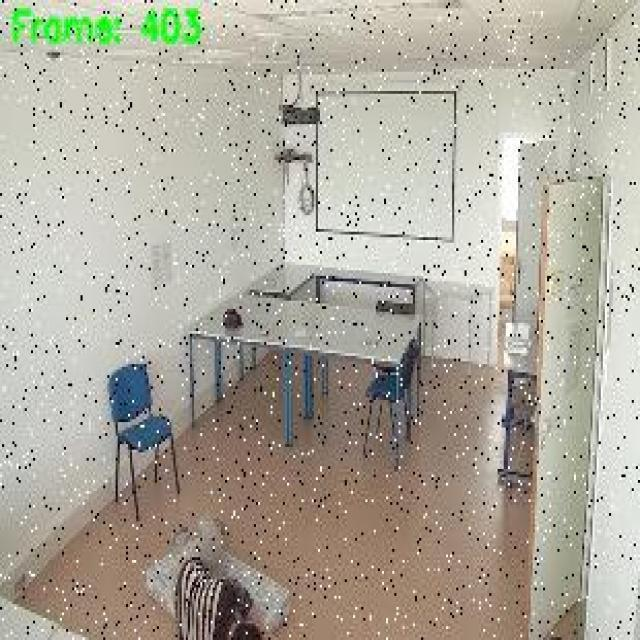fall: (165, 510, 295, 638)
